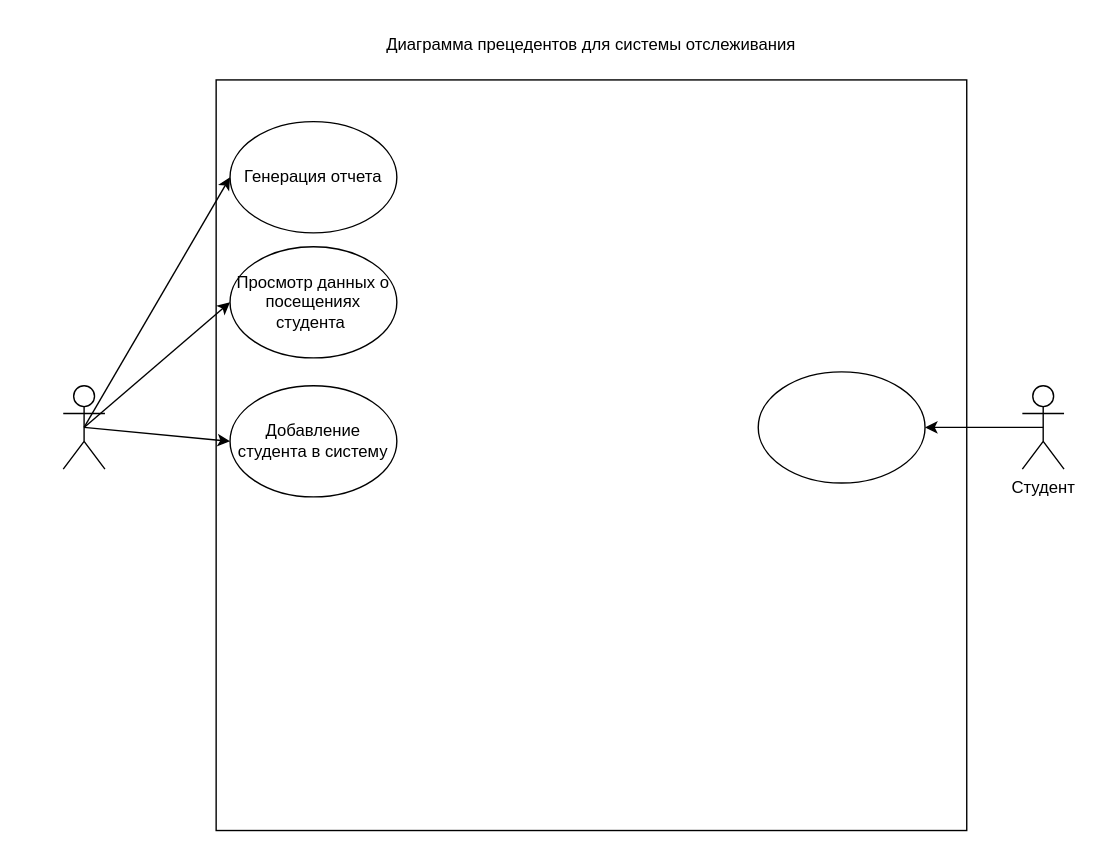
The diagram is 1099 pixels wide and 855 high, and some of its shapes have lost their labels. Here are the shapes that lost their labels. From the top down, the centre of each, then its label:
(x=83, y=426): Преподаватель
(x=841, y=426): Отправка данных о посещение по QR коду
